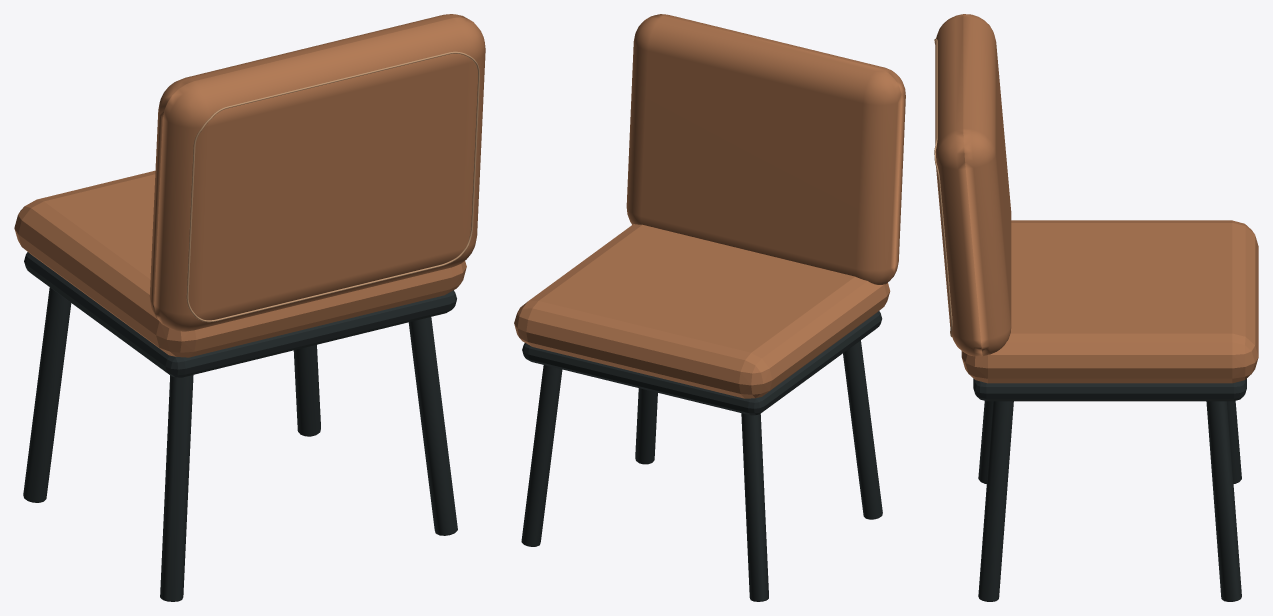
The model's file is modern-bar-chair.glb.
3 views of the same model, side by side, from view 1: azimuth 30°, elevation 25°; view 2: azimuth 150°, elevation 25°; view 3: azimuth 270°, elevation 25° (orthographic). The views are drawn at different scales.
Visible parts, largest first — view 1: modern-bar-chair - Modern Bar saddle leather upholstery runt, modern-bar-chair - Modern Bar powder coated charcoal steel r, modern-bar-chair - Modern Bar leather piping runtime PBR; view 2: modern-bar-chair - Modern Bar saddle leather upholstery runt, modern-bar-chair - Modern Bar powder coated charcoal steel r; view 3: modern-bar-chair - Modern Bar saddle leather upholstery runt, modern-bar-chair - Modern Bar powder coated charcoal steel r, modern-bar-chair - Modern Bar leather piping runtime PBR.
Part boxes in pixels (bbox=[...]): modern-bar-chair - Modern Bar saddle leather upholstery runt: bbox=[14, 14, 485, 357]; modern-bar-chair - Modern Bar powder coated charcoal steel r: bbox=[23, 252, 457, 601]; modern-bar-chair - Modern Bar leather piping runtime PBR: bbox=[186, 51, 479, 322]; modern-bar-chair - Modern Bar saddle leather upholstery runt: bbox=[514, 14, 905, 398]; modern-bar-chair - Modern Bar powder coated charcoal steel r: bbox=[521, 311, 882, 601]; modern-bar-chair - Modern Bar saddle leather upholstery runt: bbox=[935, 14, 1258, 383]; modern-bar-chair - Modern Bar powder coated charcoal steel r: bbox=[973, 378, 1246, 601]; modern-bar-chair - Modern Bar leather piping runtime PBR: bbox=[934, 38, 952, 336].
Size of the model in its own units: 0.56 by 0.886 by 0.557.
